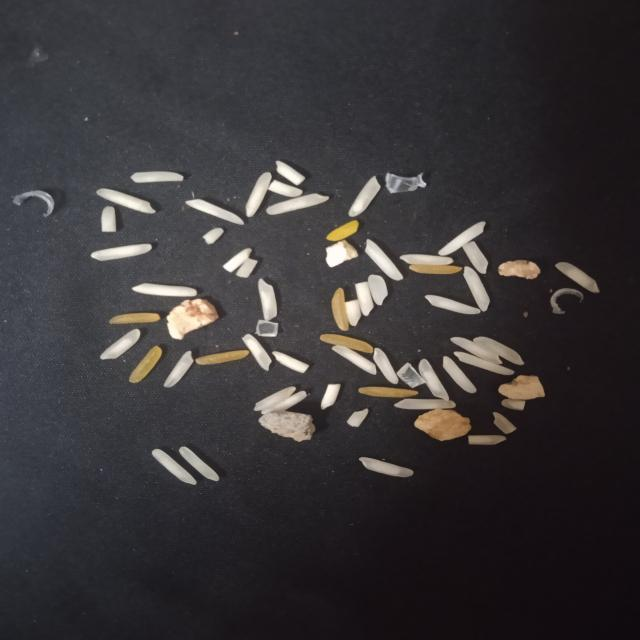Broken: (128, 345, 162, 383), (242, 333, 273, 371), (320, 334, 373, 353), (462, 241, 489, 274), (272, 351, 309, 374), (331, 288, 350, 331), (196, 350, 250, 365), (275, 160, 306, 186), (222, 248, 252, 273), (358, 386, 419, 398), (355, 281, 375, 317), (326, 220, 359, 241), (130, 171, 185, 183), (267, 179, 303, 197), (110, 313, 162, 324), (320, 384, 341, 411), (492, 412, 517, 434), (409, 264, 463, 274), (346, 408, 369, 428), (345, 299, 361, 327), (236, 258, 258, 278), (101, 206, 116, 233), (468, 435, 507, 445), (203, 228, 224, 245), (501, 398, 526, 411)
Full: (152, 448, 198, 486), (365, 238, 404, 282), (437, 221, 486, 256), (186, 198, 246, 226), (95, 188, 156, 214), (473, 336, 524, 366), (454, 351, 515, 376), (266, 192, 330, 215), (179, 446, 219, 482), (450, 337, 503, 364), (348, 175, 381, 218), (555, 262, 600, 293), (332, 345, 377, 375), (419, 358, 449, 402), (100, 329, 142, 360), (443, 356, 477, 394), (463, 266, 491, 312), (245, 171, 272, 217), (90, 243, 152, 262), (163, 350, 194, 388), (358, 457, 414, 478), (253, 386, 298, 412), (425, 294, 481, 314), (260, 391, 308, 414), (131, 282, 197, 297), (373, 348, 399, 384), (257, 279, 278, 322), (394, 398, 456, 409), (368, 274, 389, 306), (399, 254, 454, 265)
